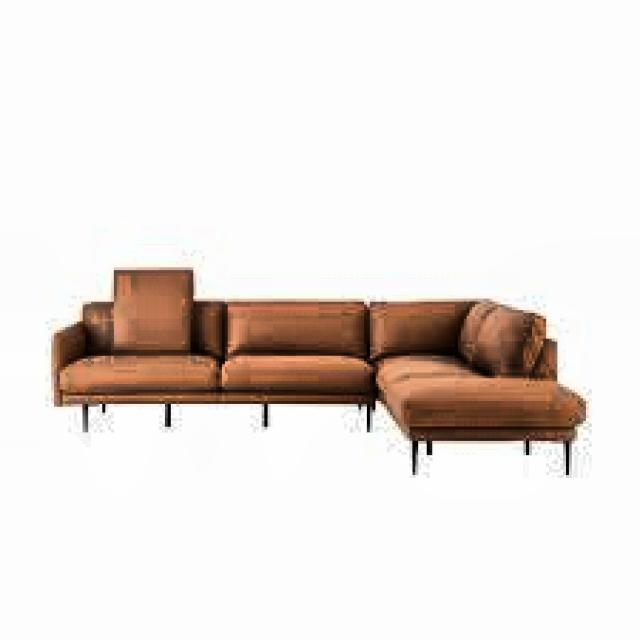sofa: (46, 267, 583, 481)
